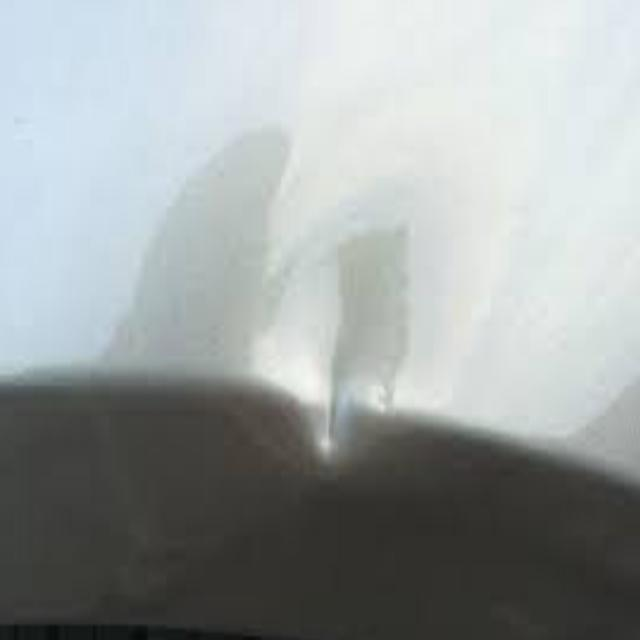dents: (246, 163, 428, 508)
